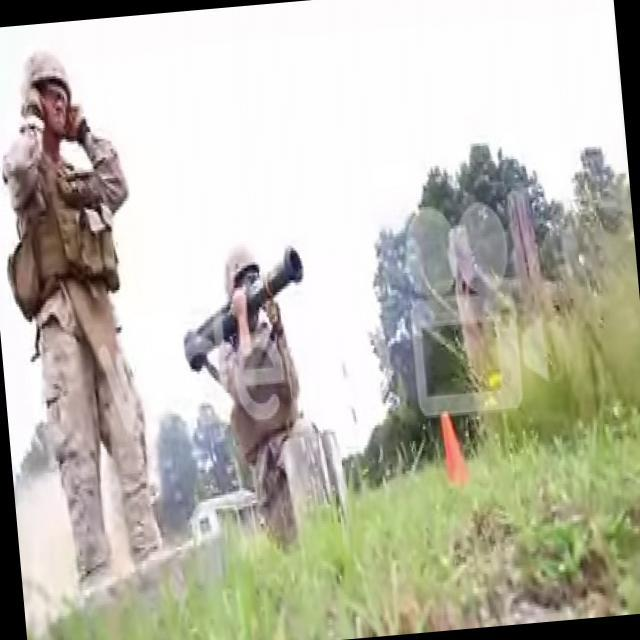rocket: (173, 246, 309, 379)
